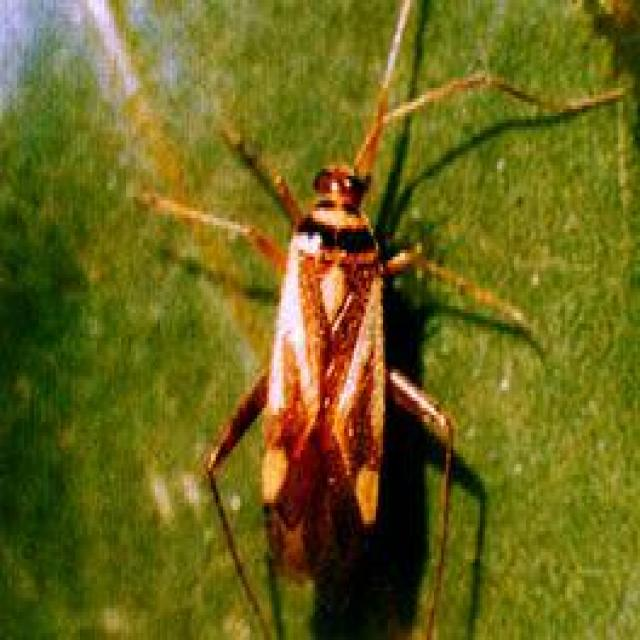Miridae-Adult-: (189, 14, 507, 626)
